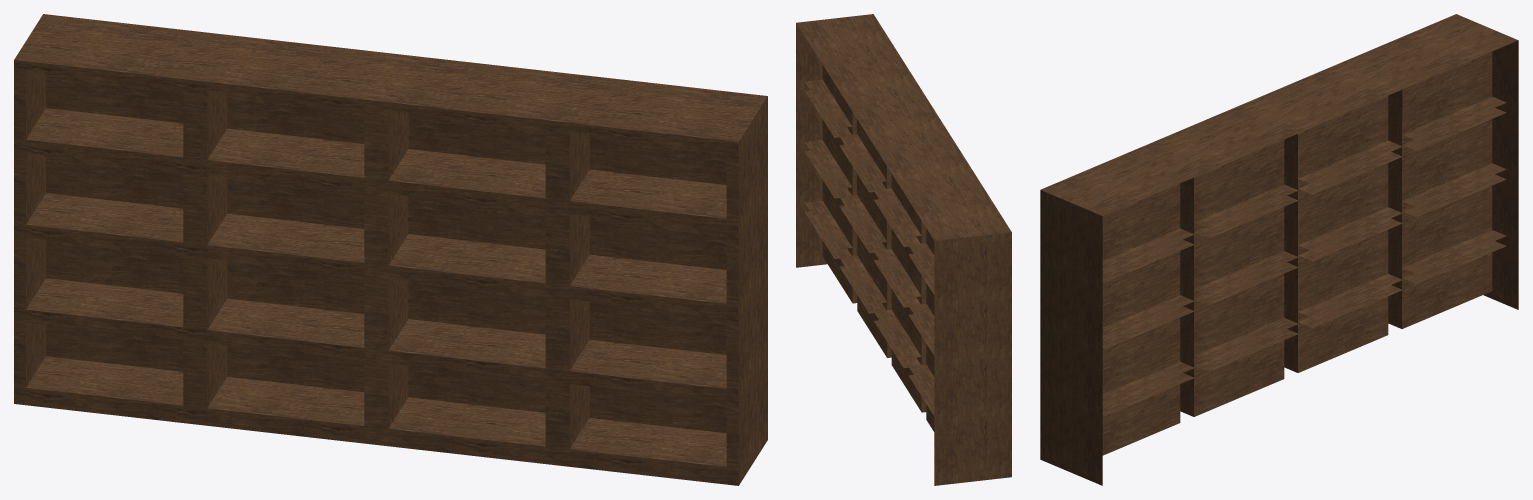
File: ShelfUnit.glb
3 views of the same model, side by side, from view 1: azimuth 30°, elevation 25°; view 2: azimuth 150°, elevation 25°; view 3: azimuth 270°, elevation 25° (orthographic). The views are drawn at different scales.
Visible parts, largest first — view 1: Drawer-Cabinet_(Alternative); view 2: Drawer-Cabinet_(Alternative); view 3: Drawer-Cabinet_(Alternative).
Boxes of the visible parts, x1=… form: Drawer-Cabinet_(Alternative): x1=14, y1=14, x2=767, y2=485; Drawer-Cabinet_(Alternative): x1=796, y1=14, x2=1011, y2=485; Drawer-Cabinet_(Alternative): x1=1040, y1=14, x2=1518, y2=485.
Bounding box in the file's own units: 1.63 × 1.01 × 1.63.
Materials: 1 (1 with a texture image).
